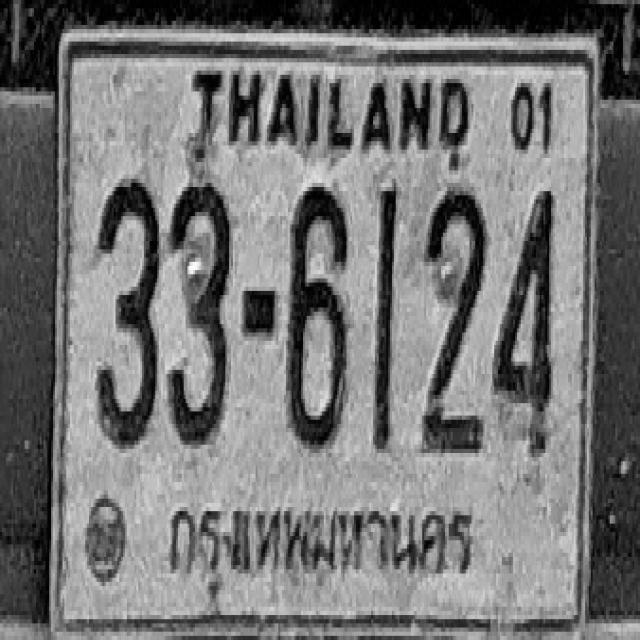1: (373, 189, 398, 451)
2: (423, 187, 486, 453)
3: (96, 176, 160, 446), (169, 178, 231, 444)
4: (493, 187, 554, 453)
6: (287, 183, 347, 449)
Bangkok: (164, 484, 477, 605)
